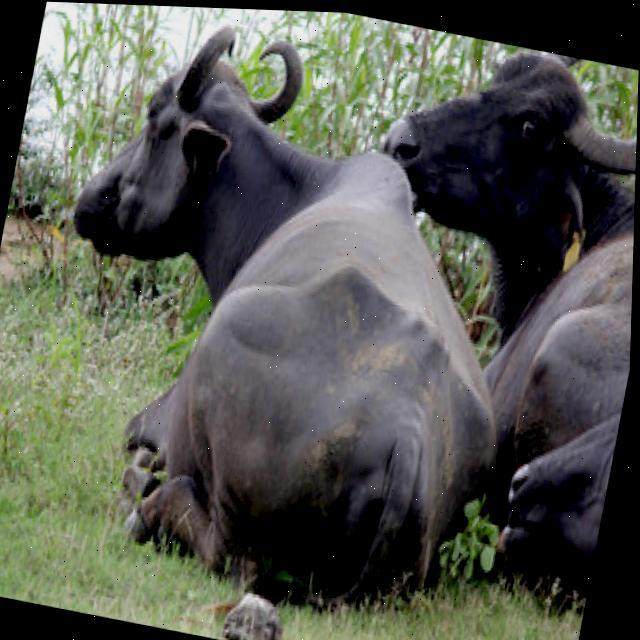Buffalo: (8, 1, 565, 610)
